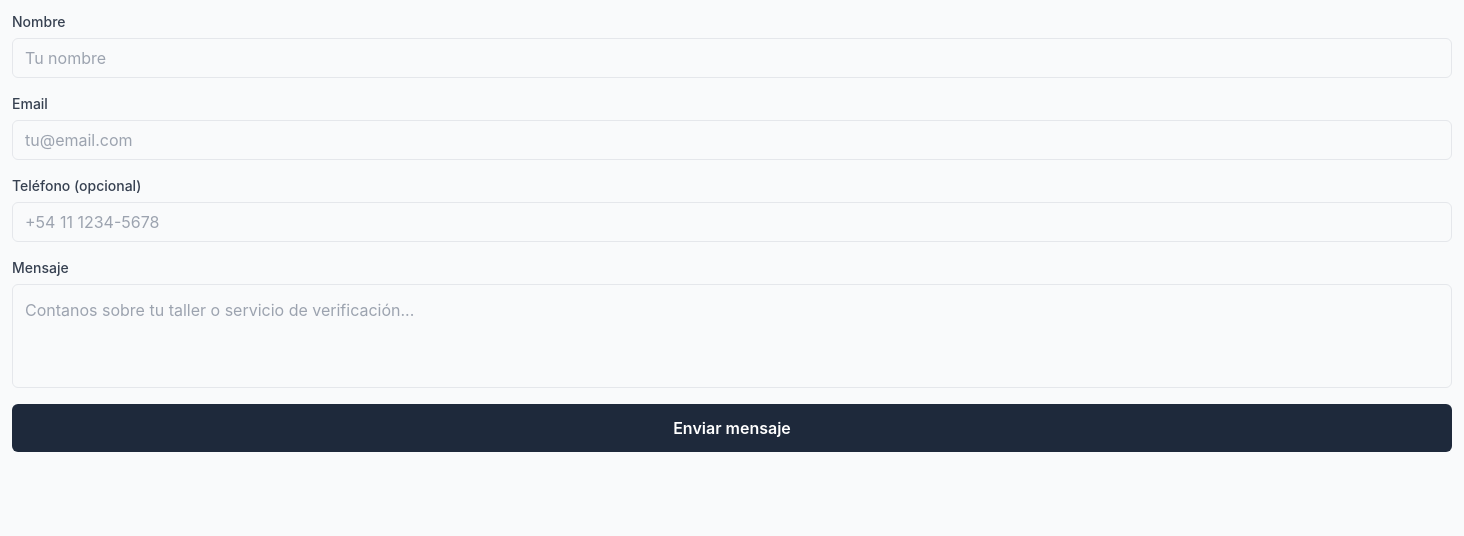
ContactForm › clears field error when user starts typing
Click the button "Enviar mensaje".
click(732, 428)  # box left=12, top=404, right=1452, bottom=452
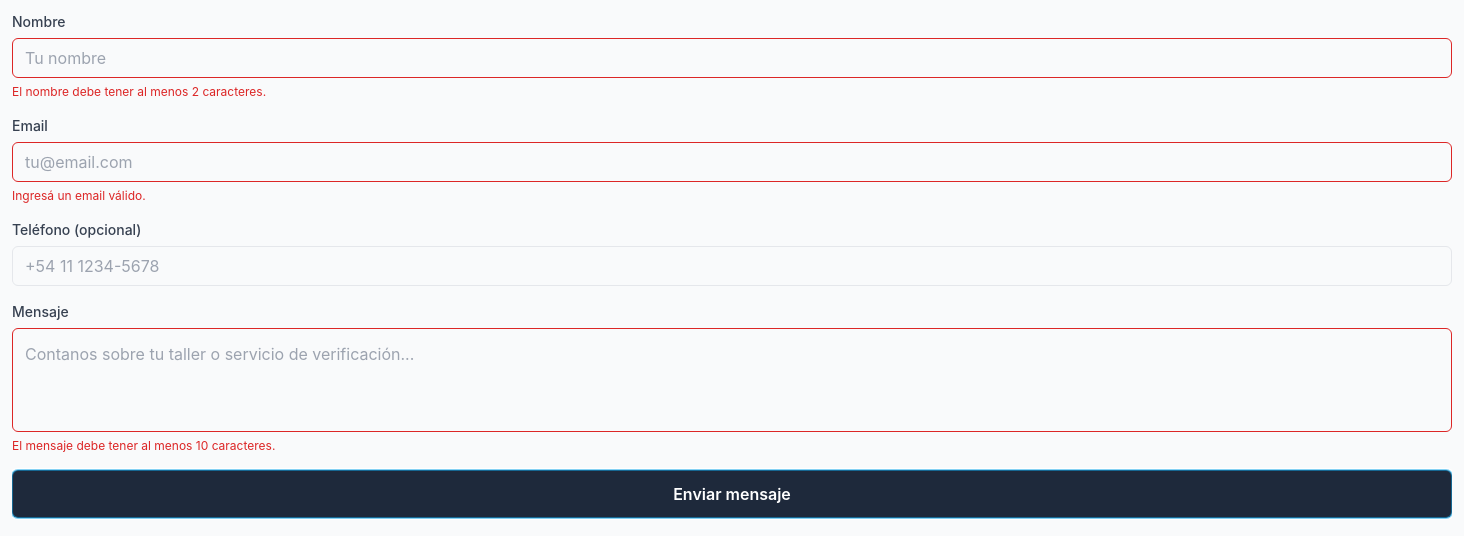
expect the text "El nombre debe tener al menos 2 caracteres." is shown: met, box left=12, top=84, right=266, bottom=99
Type "J" into the field labelled "Nombre".
click(732, 58); type("J")  # box left=12, top=38, right=1452, bottom=78
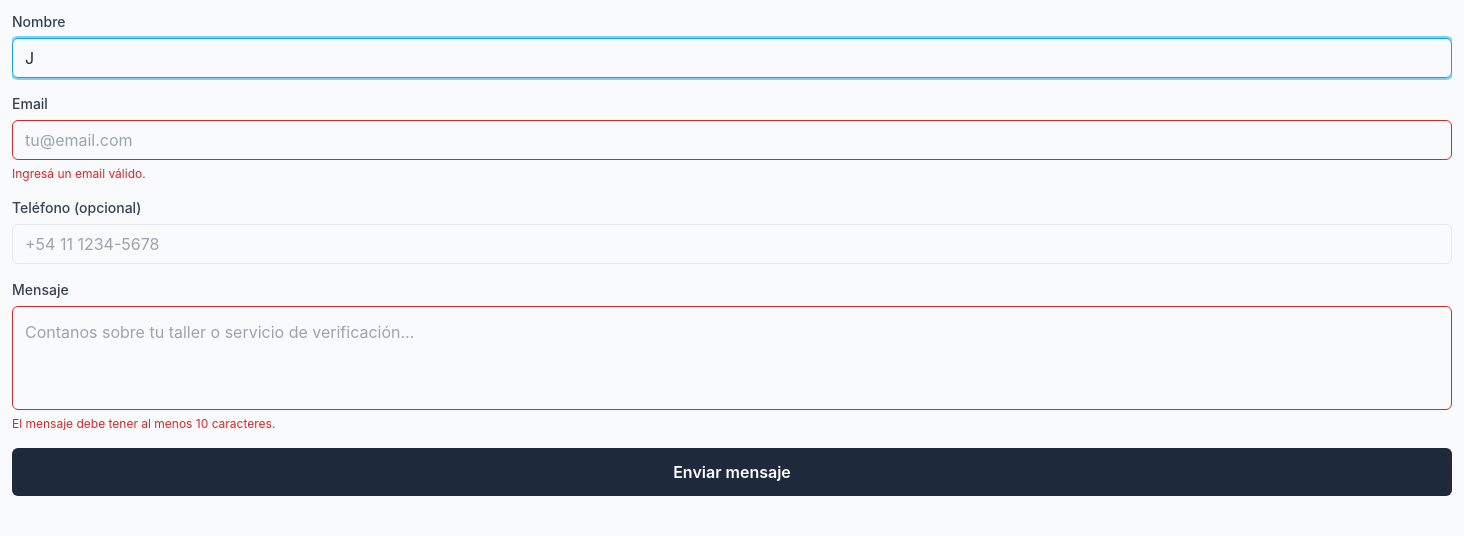
expect the text "El nombre debe tener al menos 2 caracteres." is gone: met
